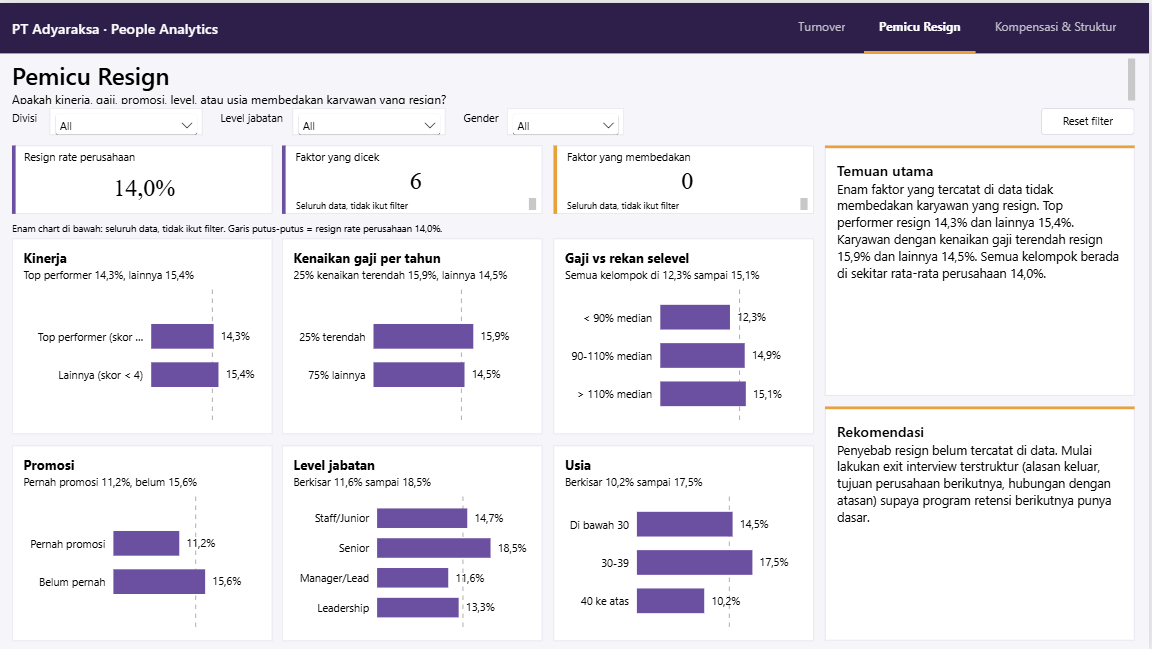

The dashboard page shown, as its layout file describes it:
{"tool":"powerbi","page":{"name":"Pemicu Resign","canvas":[1280,720],"ordinal":1},"visuals":[{"type":"shape","box":[16,158,289.3,76],"z":0},{"type":"shape","box":[16,158,4,76],"z":1000},{"type":"textbox","box":[30,164,267.3,16],"z":2000},{"type":"card","fields":{"Values":["_Ukuran.Resign %"]},"box":[30,180,267.3,50],"z":3000},{"type":"shape","box":[317.3,158,289.3,76],"z":4000},{"type":"shape","box":[317.3,158,4,76],"z":5000},{"type":"textbox","box":[331.3,164,267.3,16],"z":6000},{"type":"card","fields":{"Values":["_Ukuran.Faktor Dicek"]},"box":[331.3,180,267.3,35],"z":7000},{"type":"textbox","box":[331.3,217,267.3,13],"z":8000},{"type":"shape","box":[618.7,158,289.3,76],"z":9000},{"type":"shape","box":[618.7,158,4,76],"z":10000},{"type":"textbox","box":[632.7,164,267.3,16],"z":11000},{"type":"card","fields":{"Values":["_Ukuran.Faktor Membedakan"]},"box":[632.7,180,267.3,35],"z":12000},{"type":"textbox","box":[632.7,217,267.3,13],"z":13000},{"type":"textbox","box":[16,242,892,16],"z":14000},{"type":"clusteredBarChart","title":"Kinerja","fields":{"Category":["vw_q3_resign_per_faktor.Label Kelompok"],"Y":["_Ukuran.Resign % Faktor"]},"box":[16,262,289.3,217],"z":15000},{"type":"clusteredBarChart","title":"Kenaikan gaji per tahun","fields":{"Category":["vw_q3_resign_per_faktor.Label Kelompok"],"Y":["_Ukuran.Resign % Faktor"]},"box":[317.3,262,289.3,217],"z":16000},{"type":"clusteredBarChart","title":"Gaji vs rekan selevel","fields":{"Category":["vw_q3_resign_per_faktor.Label Kelompok"],"Y":["_Ukuran.Resign % Faktor"]},"box":[618.7,262,289.3,217],"z":17000},{"type":"clusteredBarChart","title":"Promosi","fields":{"Category":["vw_q3_resign_per_faktor.Label Kelompok"],"Y":["_Ukuran.Resign % Faktor"]},"box":[16,491,289.3,217],"z":18000},{"type":"clusteredBarChart","title":"Level jabatan","fields":{"Category":["vw_q3_resign_per_faktor.Label Kelompok"],"Y":["_Ukuran.Resign % Faktor"]},"box":[317.3,491,289.3,217],"z":19000},{"type":"clusteredBarChart","title":"Usia","fields":{"Category":["vw_q3_resign_per_faktor.Label Kelompok"],"Y":["_Ukuran.Resign % Faktor"]},"box":[618.7,491,289.3,217],"z":20000},{"type":"shape","box":[920,158,344,278],"z":21000},{"type":"shape","box":[920,158,344,3],"z":22000},{"type":"textbox","box":[934,175,316,251],"z":23000},{"type":"shape","box":[920,448,344,260],"z":24000},{"type":"shape","box":[920,448,344,3],"z":25000},{"type":"textbox","box":[934,465,316,233],"z":26000},{"type":"shape","box":[0,0,1280,56],"z":27000},{"type":"textbox","box":[16,16,360,26],"z":28000},{"type":"actionButton","box":[868,0,96,53],"z":29000},{"type":"actionButton","box":[964,0,124,53],"z":30000},{"type":"actionButton","box":[1088,0,176,53],"z":31000},{"type":"shape","box":[964,53,124,3],"z":32000},{"type":"textbox","box":[16,62,1248,50],"z":33000},{"type":"textbox","box":[16,120,38,22],"z":34000},{"type":"slicer","fields":{"Values":["departments.division"]},"box":[58,116,170,30],"z":35000},{"type":"textbox","box":[248,120,76,22],"z":36000},{"type":"slicer","fields":{"Values":["employees.level_jabatan"]},"box":[328,116,170,30],"z":37000},{"type":"textbox","box":[518,120,44,22],"z":38000},{"type":"slicer","fields":{"Values":["employees.gender"]},"box":[566,116,130,30],"z":39000},{"type":"actionButton","box":[1160,116,104,30],"z":40000}]}

Visuals, with their boxes on the page's 1280x720 design canvas (x1, y1, x2, y2). These are canvas units, not pixel positions in the 1152x649 screenshot, which may show the page scaled, cropped or inside an application window:
shape: 16 158 305 234
shape: 16 158 20 234
textbox: 30 164 297 180
card - _Ukuran.Resign %: 30 180 297 230
shape: 317 158 607 234
shape: 317 158 321 234
textbox: 331 164 599 180
card - _Ukuran.Faktor Dicek: 331 180 599 215
textbox: 331 217 599 230
shape: 619 158 908 234
shape: 619 158 623 234
textbox: 633 164 900 180
card - _Ukuran.Faktor Membedakan: 633 180 900 215
textbox: 633 217 900 230
textbox: 16 242 908 258
"Kinerja" clusteredBarChart: 16 262 305 479
"Kenaikan gaji per tahun" clusteredBarChart: 317 262 607 479
"Gaji vs rekan selevel" clusteredBarChart: 619 262 908 479
"Promosi" clusteredBarChart: 16 491 305 708
"Level jabatan" clusteredBarChart: 317 491 607 708
"Usia" clusteredBarChart: 619 491 908 708
shape: 920 158 1264 436
shape: 920 158 1264 161
textbox: 934 175 1250 426
shape: 920 448 1264 708
shape: 920 448 1264 451
textbox: 934 465 1250 698
shape: 0 0 1280 56
textbox: 16 16 376 42
actionButton: 868 0 964 53
actionButton: 964 0 1088 53
actionButton: 1088 0 1264 53
shape: 964 53 1088 56
textbox: 16 62 1264 112
textbox: 16 120 54 142
slicer - departments.division: 58 116 228 146
textbox: 248 120 324 142
slicer - employees.level_jabatan: 328 116 498 146
textbox: 518 120 562 142
slicer - employees.gender: 566 116 696 146
actionButton: 1160 116 1264 146
